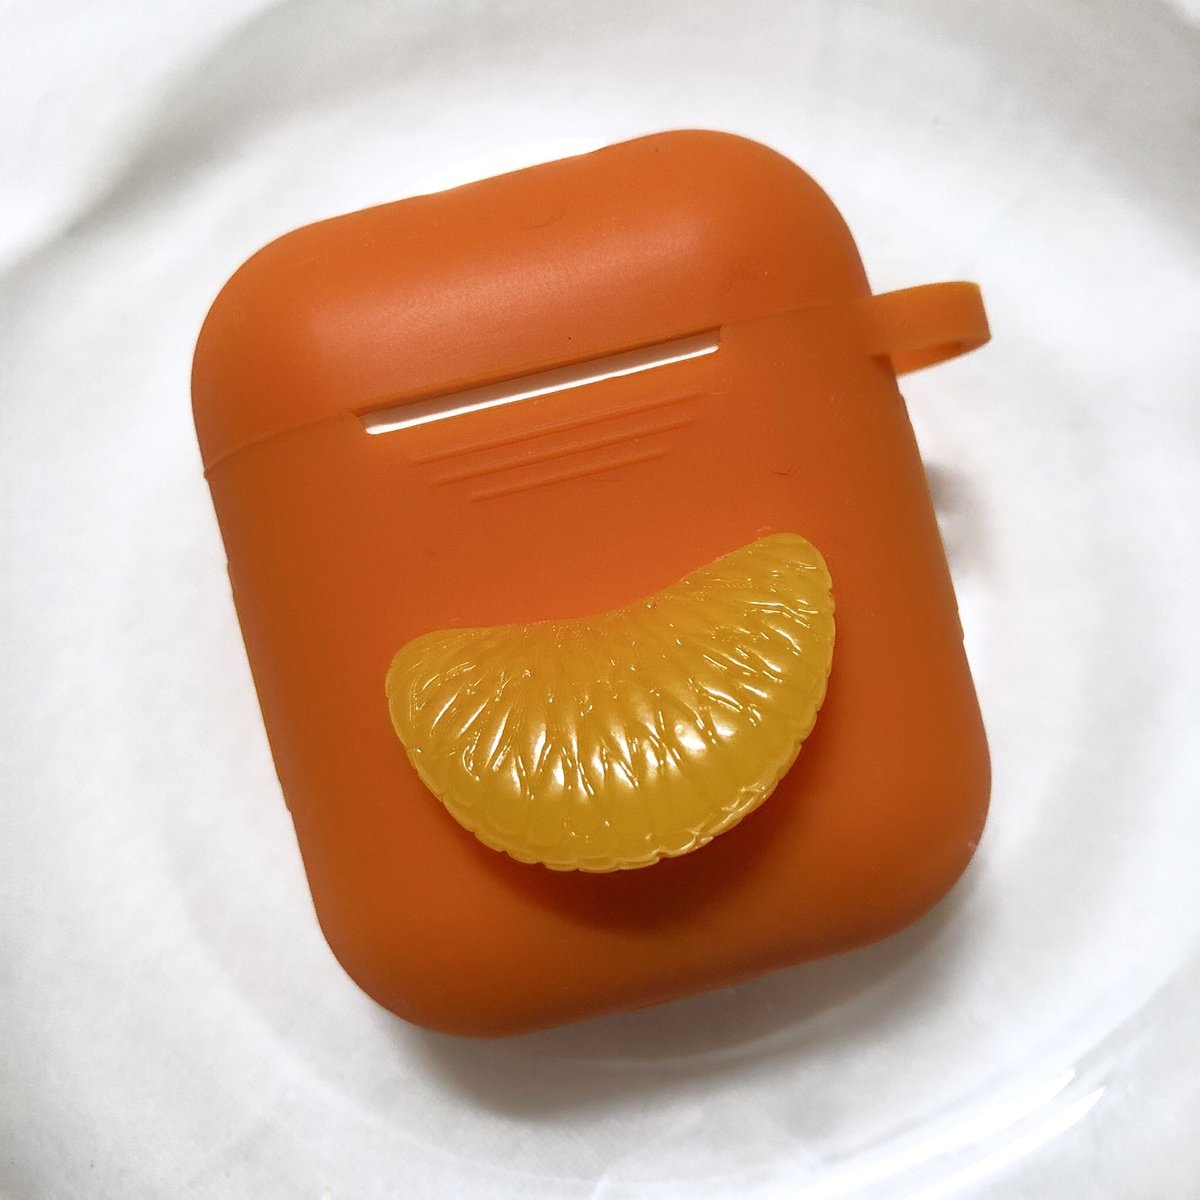mandarin: (387, 541, 833, 863)
